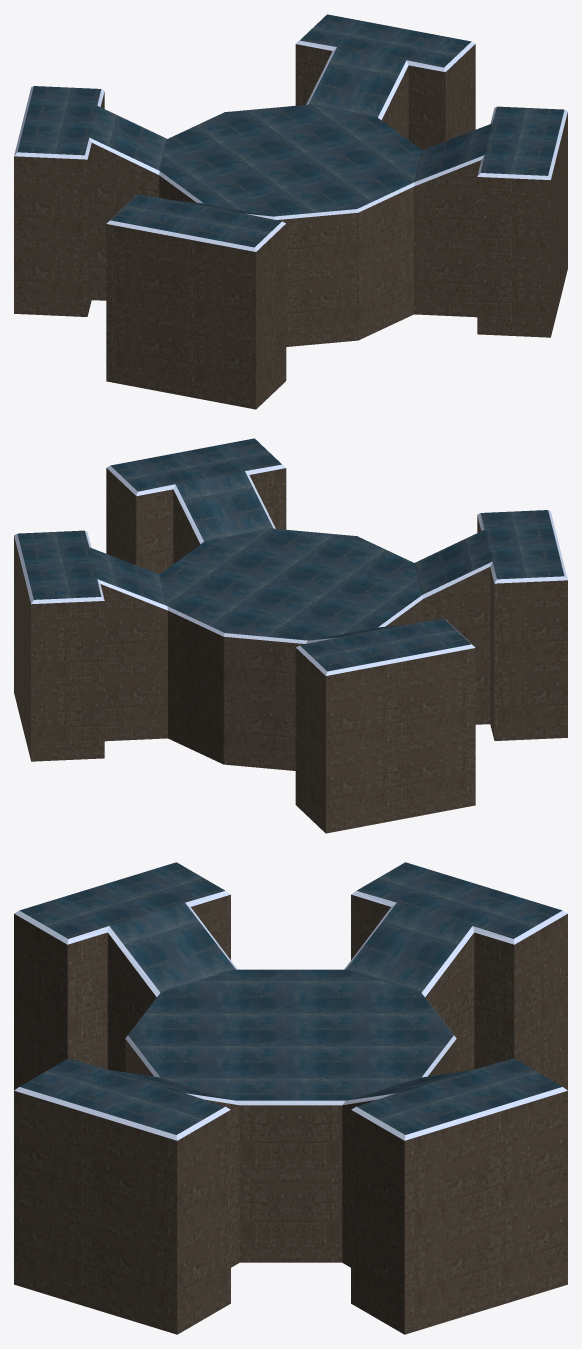
File: lobby.glb
The picture shows the model from 3 angles, top to bottom: view 1: azimuth 30°, elevation 25°; view 2: azimuth 150°, elevation 25°; view 3: azimuth 270°, elevation 25°; orthographic projection. The views are drawn at different scales.
Visible parts, largest first — view 1: Lobby.002; view 2: Lobby.002; view 3: Lobby.002.
Boxes of the visible parts, x1,y1,x2,y2 form: Lobby.002: (14,14,567,409); Lobby.002: (14,438,567,833); Lobby.002: (14,862,567,1334).
Bounding box in the file's own units: 109 × 36.19 × 91.73.
3 materials, 2 textured.
